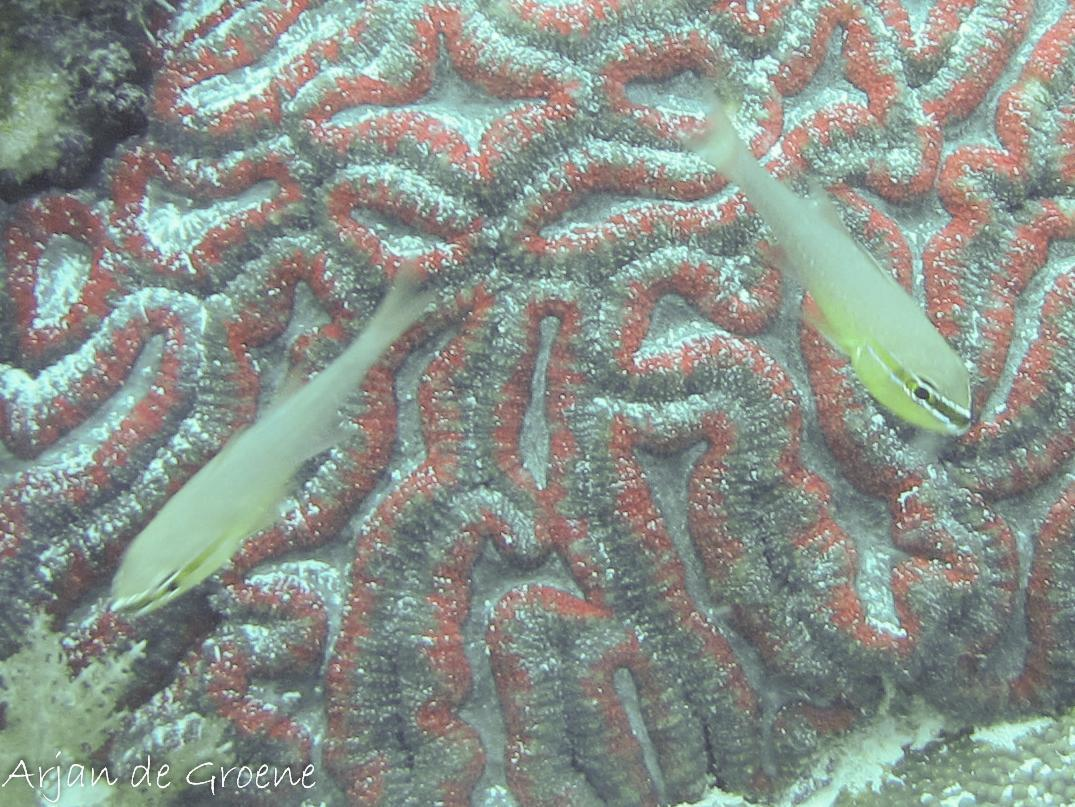Fish: (100, 248, 460, 640), (676, 79, 986, 477)
